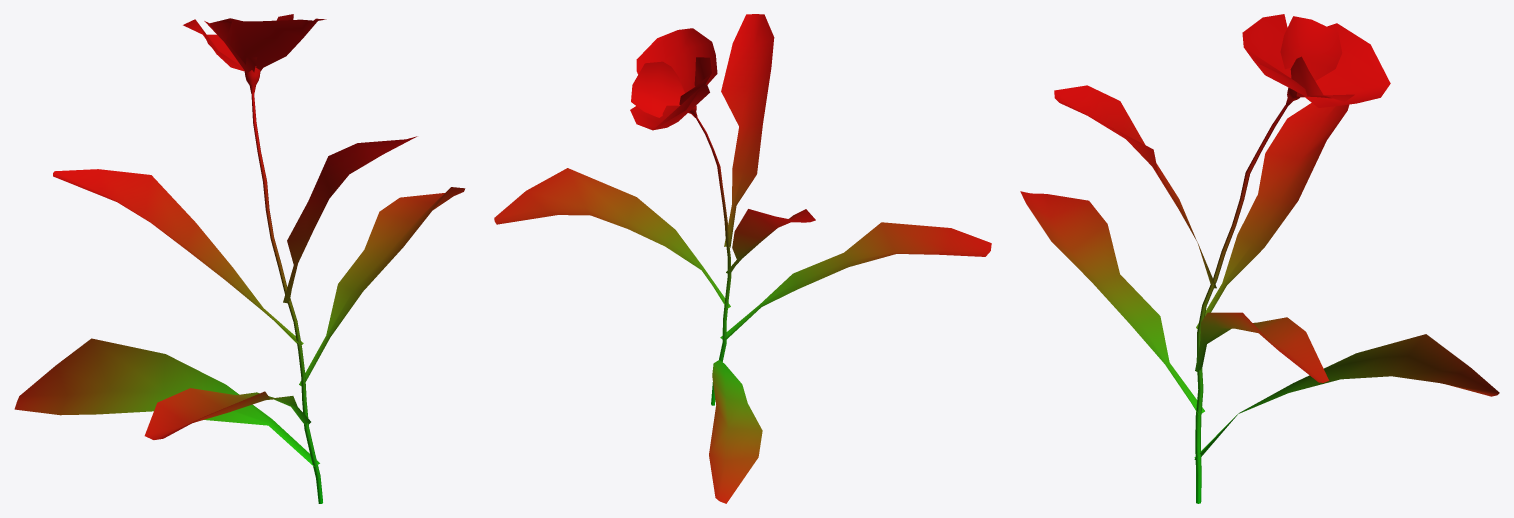
File: Field Poppy_LOD1_Var14_vmcobd0ja.fbx
3 renders of one model, left to right at view 1: azimuth 30°, elevation 25°; view 2: azimuth 150°, elevation 25°; view 3: azimuth 270°, elevation 25°, orthographic. The views are drawn at different scales.
Parts seen in each view (by area): view 1: _1gn2_Var14_LOD1; view 2: _1gn2_Var14_LOD1; view 3: _1gn2_Var14_LOD1.
Part boxes in pixels (x1,y1,x2,y2): _1gn2_Var14_LOD1: (14,14,465,503); _1gn2_Var14_LOD1: (494,14,991,503); _1gn2_Var14_LOD1: (1020,14,1499,503).
Size of the model in its own units: 29.3 by 28.81 by 26.56.
